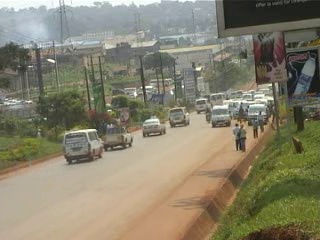Car: (141, 117, 167, 138)
Motorcycle: (204, 109, 212, 124)
